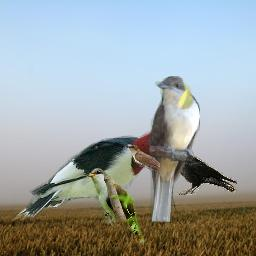Crow: (164, 141, 237, 195)
Cuckoo: (147, 76, 200, 222), (84, 168, 150, 247), (123, 145, 160, 172)
Woodpecker: (12, 122, 194, 228)
